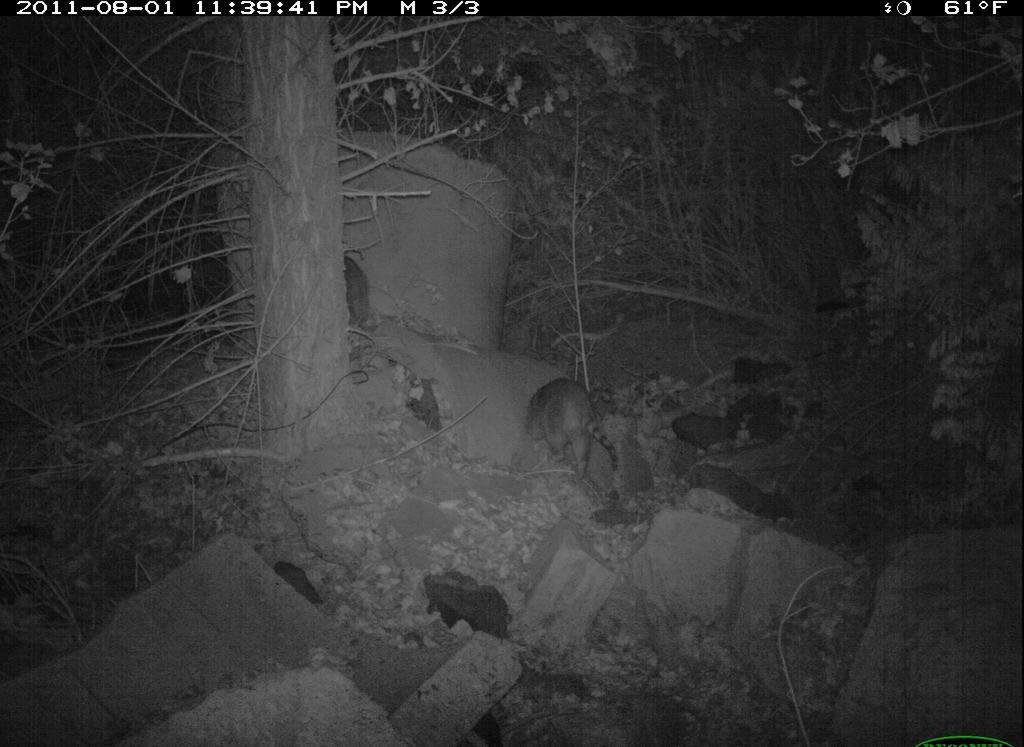raccoon: (525, 359, 628, 491)
